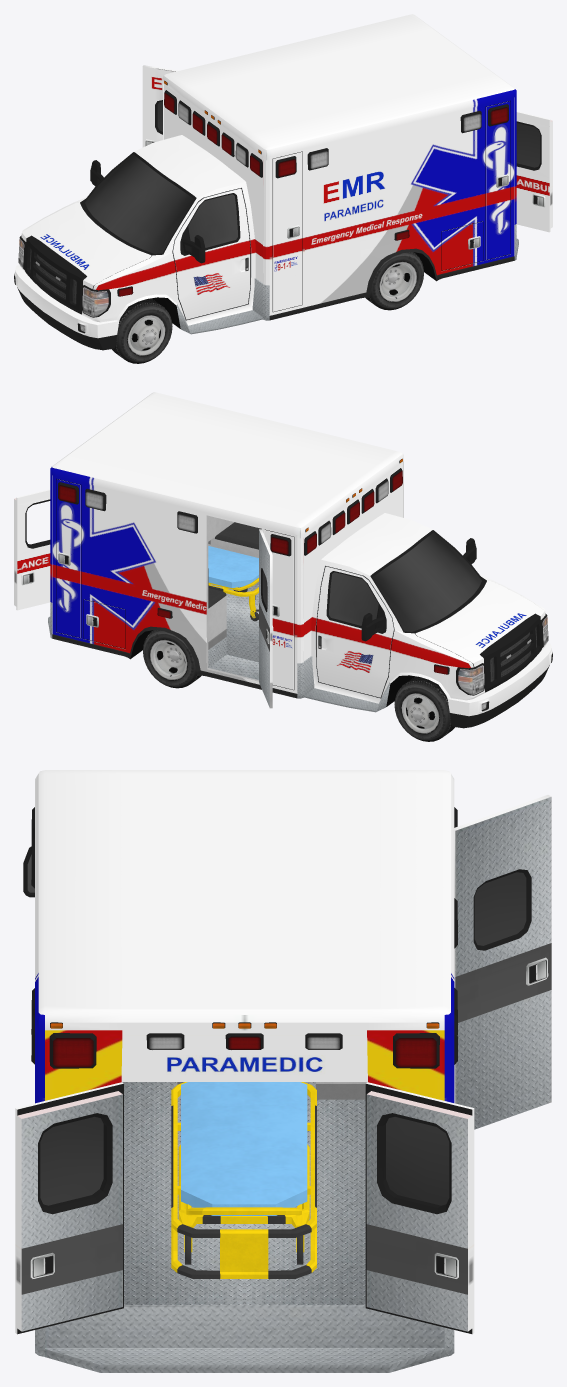
3 renders of one model, top to bottom at view 1: azimuth 30°, elevation 25°; view 2: azimuth 150°, elevation 25°; view 3: azimuth 270°, elevation 25°, orthographic. The views are drawn at different scales.
Visible parts, largest first — view 1: Object_10, Object_13, Object_15, Object_6; view 2: Object_10, Object_12, Object_15, Object_6; view 3: Object_10, Object_12, Object_13, Object_3, Object_14.
Part boxes in pixels (x1,y1,x2,y2): Object_10: (14, 14, 552, 363); Object_13: (516, 123, 540, 167); Object_15: (516, 119, 549, 177); Object_6: (192, 111, 234, 156); Object_10: (14, 392, 552, 741); Object_12: (206, 515, 261, 681); Object_15: (17, 497, 50, 555); Object_6: (332, 489, 374, 534); Object_10: (15, 770, 551, 1372); Object_12: (122, 1082, 367, 1304); Object_13: (40, 1116, 449, 1205); Object_3: (473, 865, 531, 954); Object_14: (30, 1252, 458, 1278).
Size of the model in its own units: 6.92 by 2.87 by 3.54.
12 materials, 12 textured.
